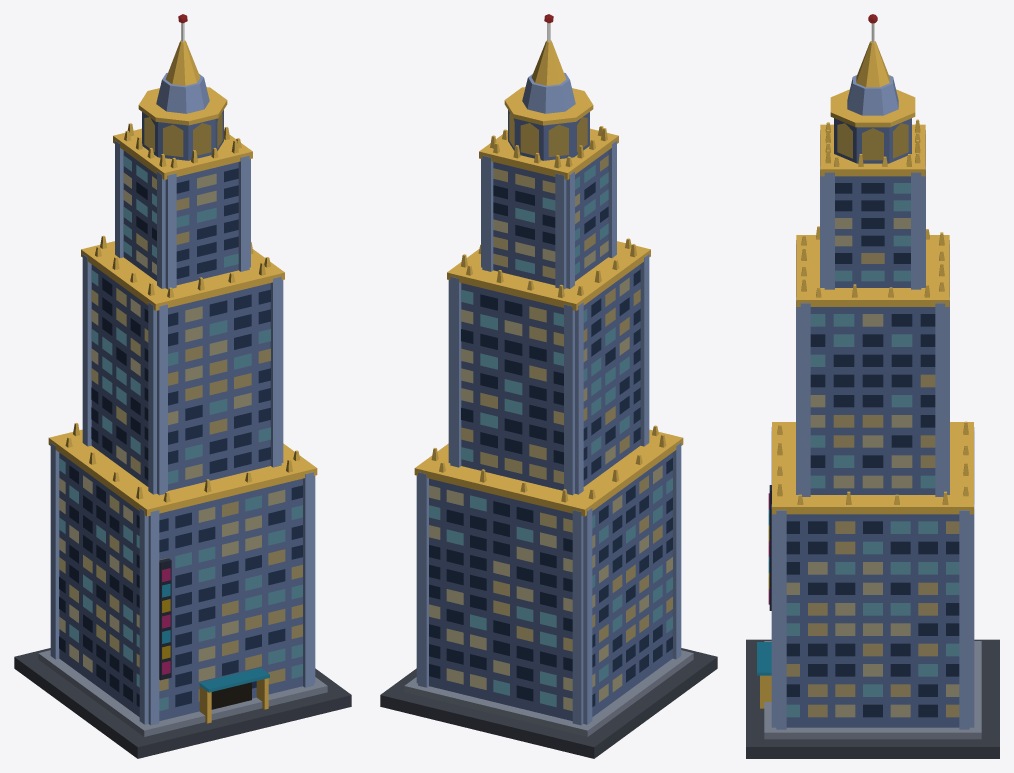
The model's file is skyscraper.glb.
The picture shows the model from 3 angles, left to right: view 1: azimuth 30°, elevation 25°; view 2: azimuth 150°, elevation 25°; view 3: azimuth 270°, elevation 25°; orthographic projection. The views are drawn at different scales.
Parts seen in each view (by area): view 1: skyscraper; view 2: skyscraper; view 3: skyscraper.
Boxes of the visible parts, <box> form: skyscraper: <box>14,14,351,758</box>; skyscraper: <box>380,14,717,758</box>; skyscraper: <box>746,14,999,758</box>.
Bounding box in the file's own units: 42 × 126 × 42.
2 materials, 2 textured.
